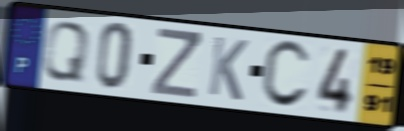0: (97, 21, 139, 93)
4: (314, 45, 356, 116)
C: (259, 38, 313, 111)
K: (206, 34, 250, 104)
Q: (40, 19, 93, 84)
Z: (149, 25, 203, 101)
